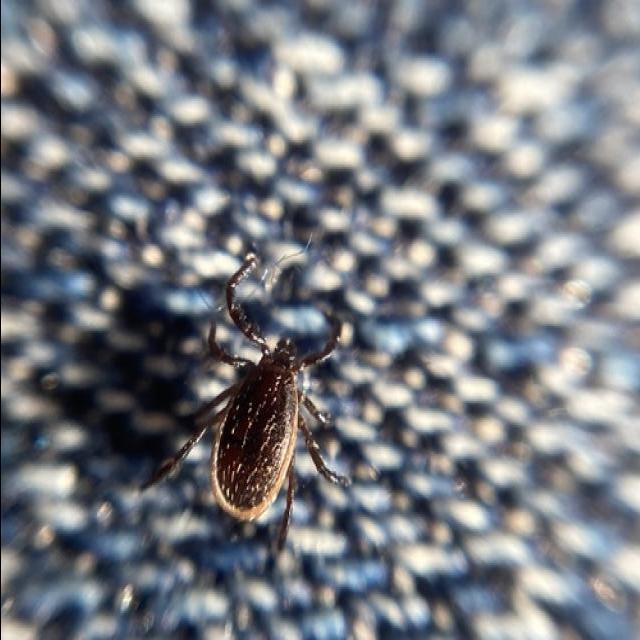Ixodes Ricinus-M: (151, 258, 347, 553)
